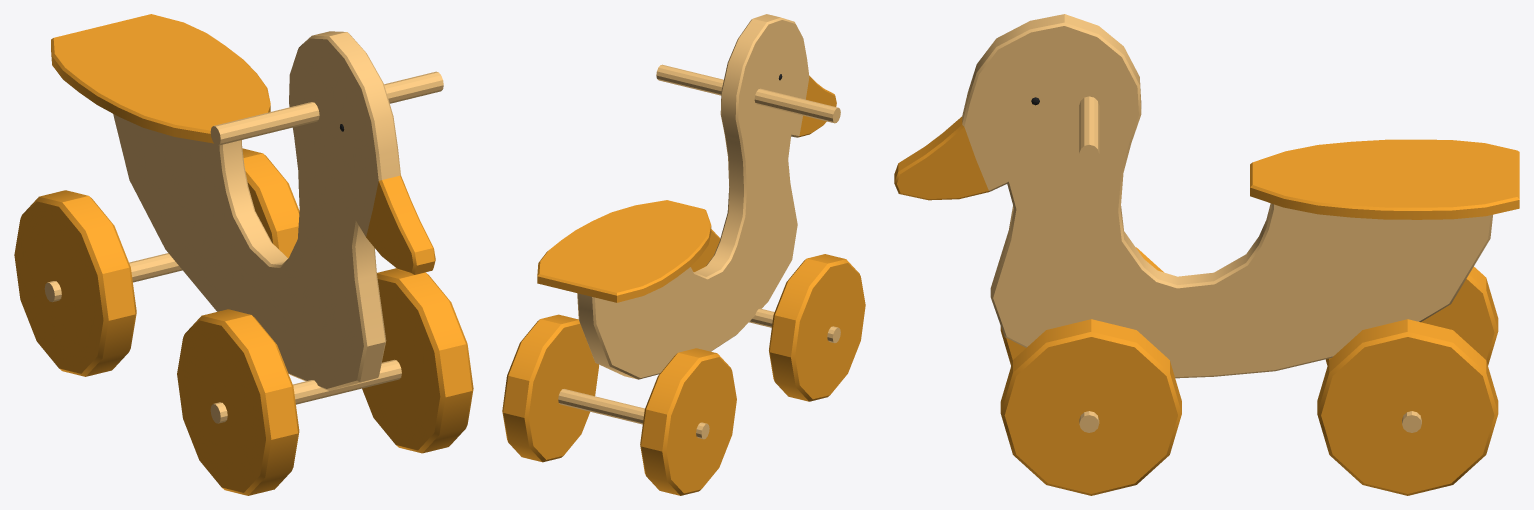
Rendered from DuckBike.fbx.
3 views of the same model, side by side, from view 1: azimuth 30°, elevation 25°; view 2: azimuth 150°, elevation 25°; view 3: azimuth 270°, elevation 25° (orthographic). The views are drawn at different scales.
Visible parts, largest first — view 1: DuckBike; view 2: DuckBike; view 3: DuckBike.
Part boxes in pixels (bbox=[...]): DuckBike: bbox=[14, 14, 473, 495]; DuckBike: bbox=[502, 14, 865, 495]; DuckBike: bbox=[894, 14, 1519, 495].
Bounding box in the file's own units: 51.81 × 98.08 × 129.
Materials: 1 (1 with a texture image).
